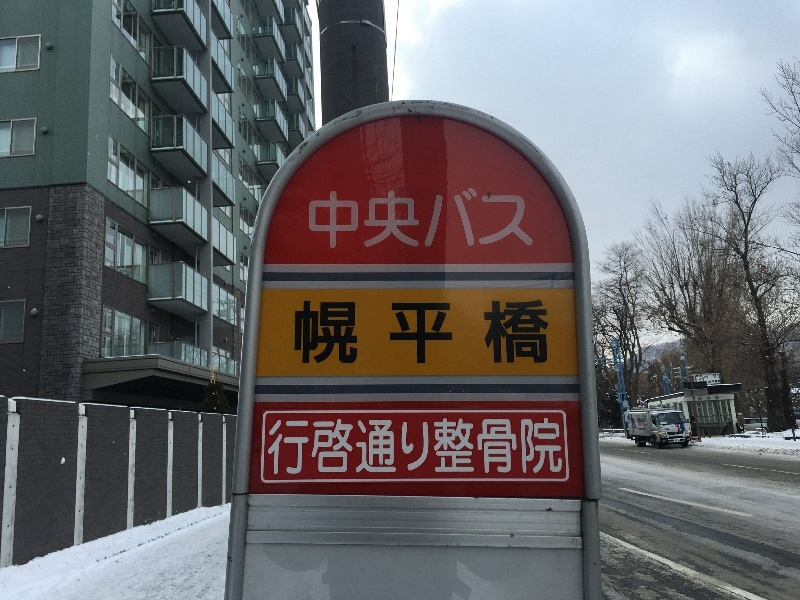text: (321, 181, 336, 249), (337, 181, 352, 249), (353, 181, 368, 249), (369, 181, 384, 249), (385, 181, 400, 249), (401, 181, 416, 249), (417, 181, 432, 249), (433, 181, 448, 249), (449, 181, 464, 249), (465, 181, 480, 249), (481, 181, 496, 249), (497, 181, 512, 249), (513, 181, 528, 249), (305, 298, 320, 364), (321, 298, 336, 364), (337, 298, 352, 364), (353, 298, 368, 364), (369, 298, 384, 364), (385, 298, 400, 364), (401, 298, 416, 364), (417, 298, 432, 364), (433, 298, 448, 364), (449, 298, 464, 364), (465, 298, 480, 364), (481, 298, 496, 364), (497, 298, 512, 364), (513, 298, 528, 364), (529, 298, 544, 364), (273, 417, 288, 475), (289, 417, 304, 475), (305, 417, 320, 475), (321, 417, 336, 475), (337, 417, 352, 475), (353, 417, 368, 475), (369, 417, 384, 475), (385, 417, 400, 475), (401, 417, 416, 475), (417, 417, 432, 475), (433, 417, 448, 475), (449, 417, 464, 475), (465, 417, 480, 475), (481, 417, 496, 475), (497, 417, 512, 475), (513, 417, 528, 475), (529, 417, 544, 475), (545, 417, 560, 475), (310, 181, 320, 249), (296, 298, 304, 364), (529, 181, 534, 249), (545, 298, 549, 364), (269, 417, 272, 475), (561, 417, 564, 475), (705, 396, 719, 400), (674, 439, 688, 442), (709, 380, 720, 383), (699, 396, 704, 400), (696, 375, 704, 377), (665, 429, 672, 430), (718, 374, 720, 377)
